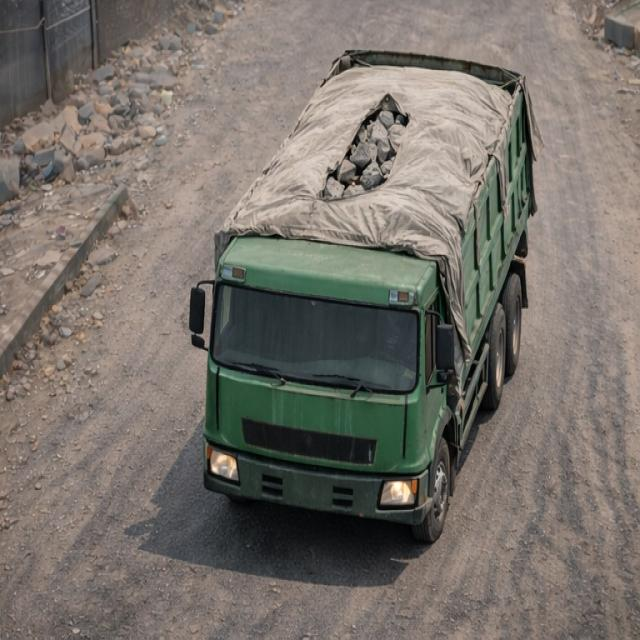Box: (212, 54, 528, 273)
Truck: (190, 40, 568, 542)
